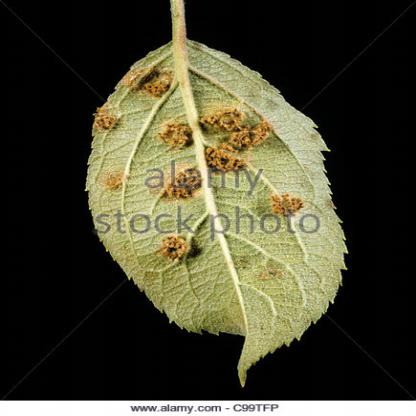apple rust leaf: (82, 41, 358, 379)
